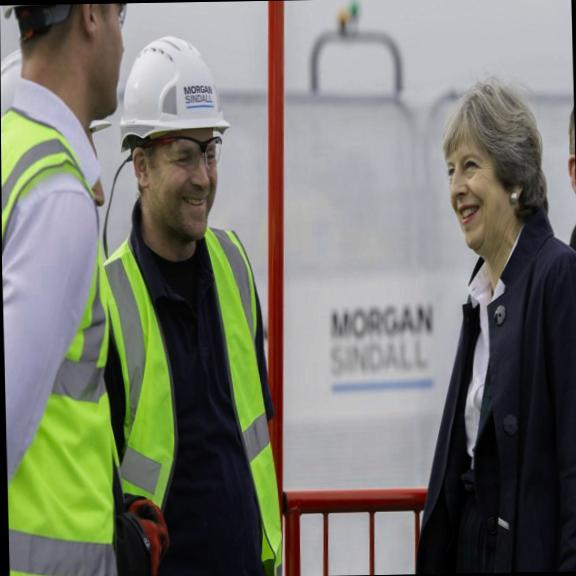no_safety_vest: (445, 238, 576, 521)
safety_vest: (1, 84, 124, 547), (99, 220, 269, 529)
